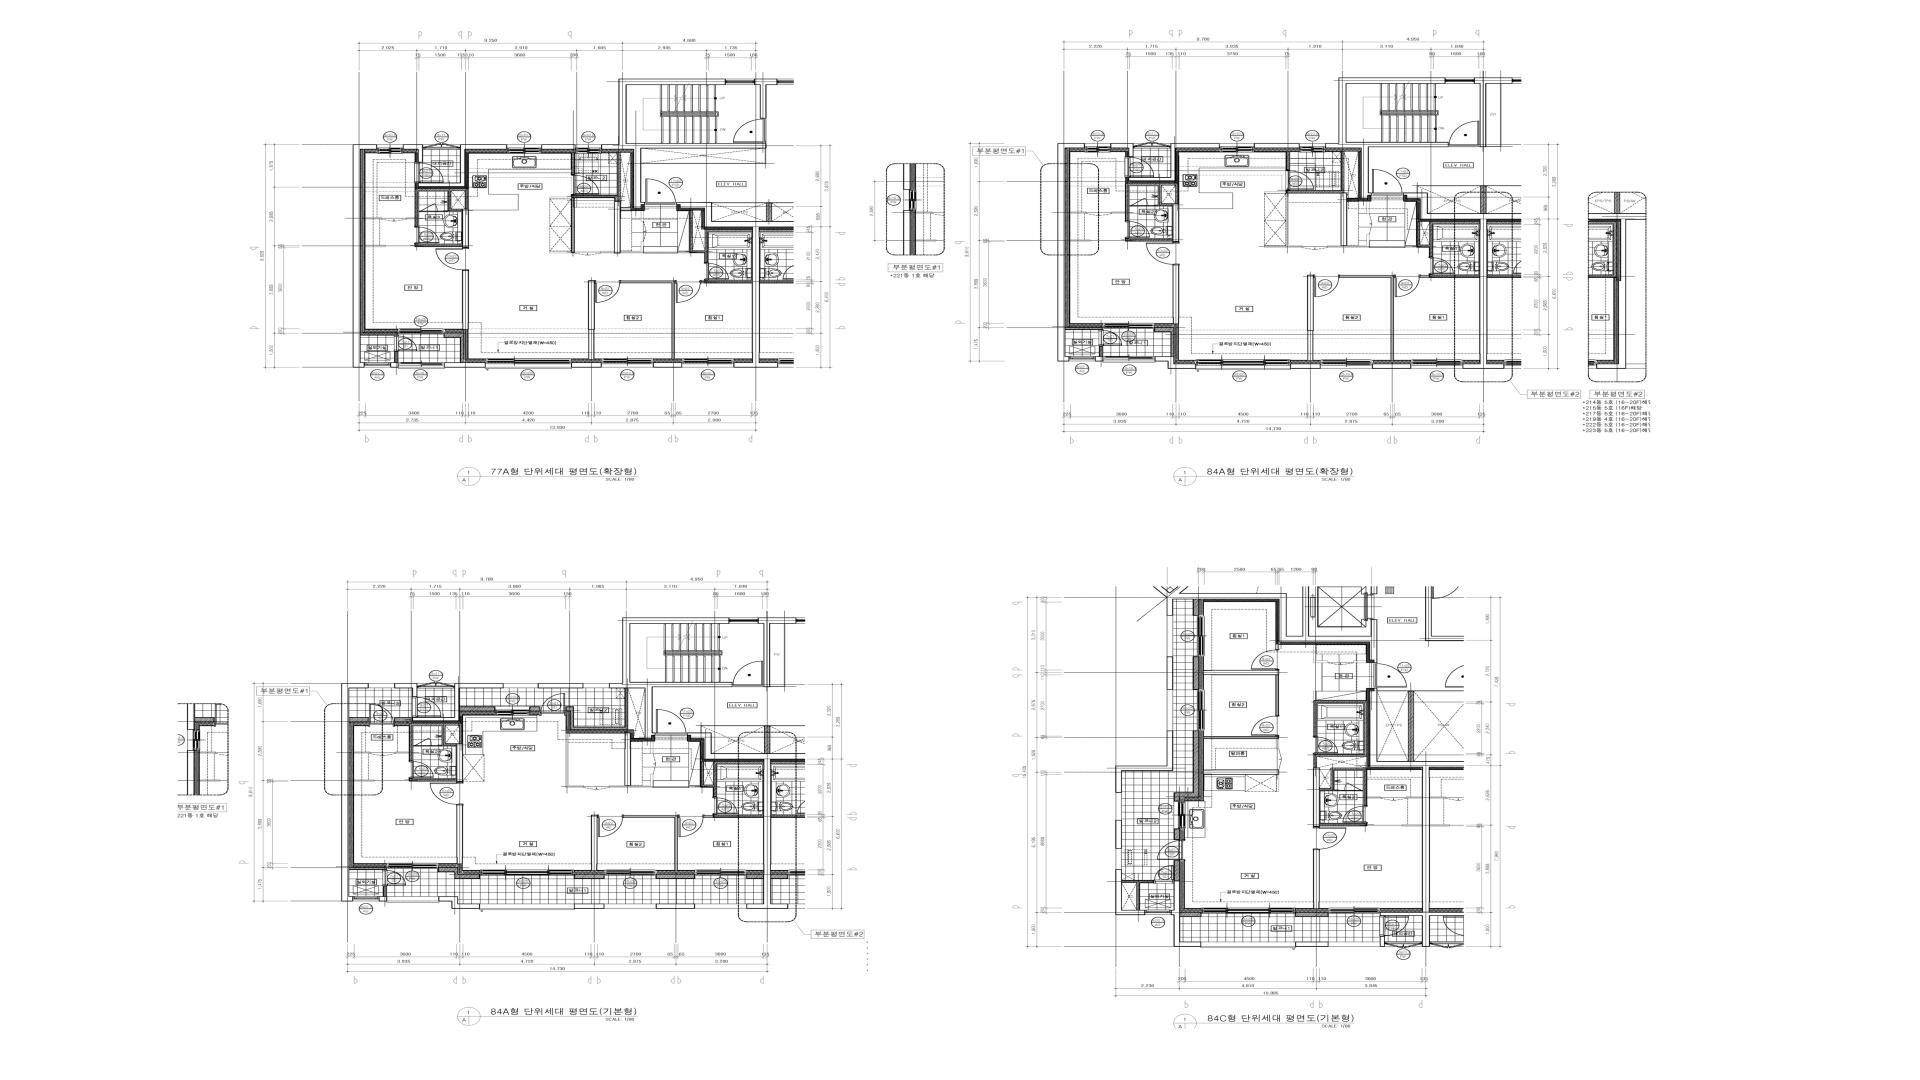door: (655, 708, 687, 736), (1449, 120, 1481, 146), (1371, 169, 1403, 195), (732, 661, 764, 687), (645, 178, 676, 204), (733, 119, 766, 144), (1146, 241, 1180, 265), (435, 247, 469, 270), (1374, 663, 1407, 687), (430, 782, 463, 804), (1313, 827, 1346, 849), (411, 696, 442, 717), (1379, 915, 1410, 936), (675, 280, 702, 303), (595, 280, 621, 303), (571, 174, 600, 195), (541, 692, 566, 716), (369, 703, 394, 727), (1394, 274, 1420, 297), (678, 815, 704, 837), (597, 815, 624, 837), (1313, 274, 1340, 297), (1251, 649, 1279, 670), (1286, 170, 1315, 190), (1125, 157, 1154, 177), (414, 162, 443, 182), (1251, 716, 1279, 736), (1158, 840, 1185, 860), (1125, 220, 1150, 239), (414, 225, 439, 244), (1429, 257, 1455, 274), (712, 796, 737, 814), (409, 761, 434, 778), (1342, 806, 1367, 823), (1313, 736, 1338, 753), (704, 262, 729, 280), (382, 870, 406, 886), (1098, 330, 1122, 345), (1154, 865, 1174, 884), (394, 335, 417, 351), (417, 682, 455, 688), (1385, 942, 1422, 948), (423, 142, 460, 149), (415, 737, 433, 746), (1345, 782, 1362, 791), (421, 203, 438, 212), (1131, 198, 1149, 206), (369, 752, 396, 756), (1381, 796, 1407, 800), (575, 252, 601, 256), (584, 786, 609, 790), (1087, 212, 1112, 216), (381, 218, 406, 222), (1278, 749, 1282, 769), (1303, 247, 1328, 249), (1328, 662, 1353, 665), (644, 222, 646, 241)
wall: (1370, 687, 1464, 947), (601, 78, 766, 208), (687, 732, 806, 909), (676, 202, 794, 368), (1153, 585, 1378, 663), (1325, 78, 1449, 199), (1403, 193, 1487, 369), (609, 617, 732, 738), (1265, 152, 1345, 248), (550, 152, 620, 253), (1058, 142, 1085, 361), (342, 683, 368, 902), (352, 144, 377, 368), (1340, 276, 1394, 361), (621, 281, 675, 360), (418, 144, 508, 186), (1313, 700, 1367, 767), (1116, 731, 1174, 793), (411, 683, 504, 721), (1203, 670, 1279, 716), (1129, 142, 1220, 181), (690, 210, 752, 262), (1420, 224, 1480, 278), (704, 765, 764, 818), (624, 815, 678, 870), (758, 617, 796, 687), (1474, 78, 1513, 146), (396, 723, 463, 761), (566, 688, 628, 729), (1112, 183, 1179, 220), (406, 189, 469, 227), (609, 732, 653, 787), (1328, 193, 1370, 248), (700, 761, 764, 796), (1416, 222, 1480, 257), (1425, 585, 1464, 641), (1171, 881, 1201, 947), (641, 148, 766, 164), (1174, 731, 1200, 802), (1320, 767, 1367, 806), (1125, 206, 1174, 241), (1203, 769, 1279, 791), (1320, 791, 1367, 827), (409, 746, 456, 782), (601, 200, 632, 253), (1116, 869, 1145, 915), (1203, 736, 1279, 749), (1486, 83, 1502, 146), (566, 733, 584, 787), (1122, 880, 1154, 910), (754, 79, 778, 119), (770, 624, 785, 687), (1416, 185, 1522, 193), (700, 725, 806, 732), (443, 332, 464, 363), (1154, 327, 1174, 356), (1307, 274, 1313, 360), (1155, 356, 1196, 369), (588, 280, 595, 360), (439, 897, 480, 909), (462, 270, 469, 330), (438, 868, 480, 878), (1313, 849, 1320, 909), (1313, 767, 1320, 827), (456, 804, 463, 864), (1172, 265, 1179, 323), (1408, 691, 1414, 761), (591, 815, 597, 870), (404, 144, 423, 162), (1110, 142, 1134, 157), (462, 208, 469, 247), (394, 683, 417, 696), (1313, 645, 1328, 663), (621, 241, 644, 253), (1172, 203, 1179, 241), (456, 744, 463, 782), (1254, 142, 1300, 148), (538, 683, 583, 688), (1167, 657, 1174, 690), (1193, 657, 1200, 690), (444, 363, 485, 368), (655, 903, 695, 909), (1373, 364, 1411, 369), (702, 280, 752, 284), (414, 243, 463, 247), (460, 705, 496, 711), (1116, 820, 1122, 848), (1295, 911, 1329, 916), (1295, 942, 1328, 947), (542, 144, 575, 149), (574, 874, 605, 880), (1291, 364, 1321, 369), (571, 363, 601, 368), (655, 874, 695, 878), (653, 363, 682, 368), (575, 903, 604, 909), (349, 866, 386, 870), (1481, 186, 1486, 214), (1174, 860, 1180, 881), (765, 727, 770, 753), (766, 203, 773, 222), (1378, 690, 1464, 691), (1193, 599, 1200, 616), (712, 202, 794, 203), (349, 717, 369, 723), (360, 332, 398, 335), (1065, 327, 1102, 330), (746, 874, 764, 880), (571, 152, 575, 174), (1180, 913, 1201, 916), (1174, 828, 1180, 840), (394, 717, 413, 721), (1286, 152, 1290, 170), (529, 705, 541, 711), (1098, 345, 1104, 356), (353, 779, 375, 782), (1379, 936, 1385, 947), (1402, 824, 1422, 827), (1095, 356, 1104, 361), (394, 351, 398, 363), (1071, 211, 1087, 214), (382, 886, 386, 897), (378, 897, 386, 902), (390, 363, 398, 368), (1353, 661, 1366, 663), (650, 741, 653, 753), (1367, 202, 1370, 214), (641, 211, 644, 222), (1071, 240, 1091, 241), (365, 245, 385, 247), (353, 752, 369, 753), (1275, 644, 1279, 649), (365, 218, 381, 219), (1407, 796, 1422, 798), (1367, 796, 1381, 798)
window: (1196, 360, 1291, 369), (480, 903, 575, 910), (1201, 942, 1296, 948), (480, 869, 574, 876), (1201, 907, 1295, 914), (1411, 359, 1462, 368), (485, 364, 572, 369), (485, 359, 571, 364), (1321, 360, 1373, 368), (601, 359, 653, 367), (682, 359, 733, 367), (695, 869, 746, 876), (604, 869, 655, 876), (386, 862, 438, 869), (1329, 907, 1381, 914), (1104, 356, 1155, 363), (1197, 690, 1205, 731), (1197, 616, 1205, 657), (508, 144, 542, 153), (1174, 802, 1185, 828), (496, 705, 529, 715), (604, 903, 657, 909), (386, 897, 439, 902), (1328, 942, 1381, 947), (1167, 615, 1174, 657), (695, 903, 746, 909), (1220, 144, 1254, 152), (1102, 323, 1154, 328), (1167, 690, 1174, 731), (1134, 141, 1171, 148), (377, 144, 404, 153), (575, 144, 601, 153), (398, 328, 443, 334), (1299, 144, 1325, 152), (1085, 144, 1110, 152), (729, 617, 758, 624), (1116, 793, 1122, 820), (398, 365, 444, 369), (504, 683, 538, 688), (1445, 78, 1474, 83), (725, 79, 754, 84), (583, 683, 609, 688), (352, 895, 378, 901), (368, 683, 394, 688), (1145, 910, 1171, 915), (1116, 848, 1122, 869), (364, 363, 390, 368), (1069, 356, 1095, 361), (398, 363, 444, 365)
